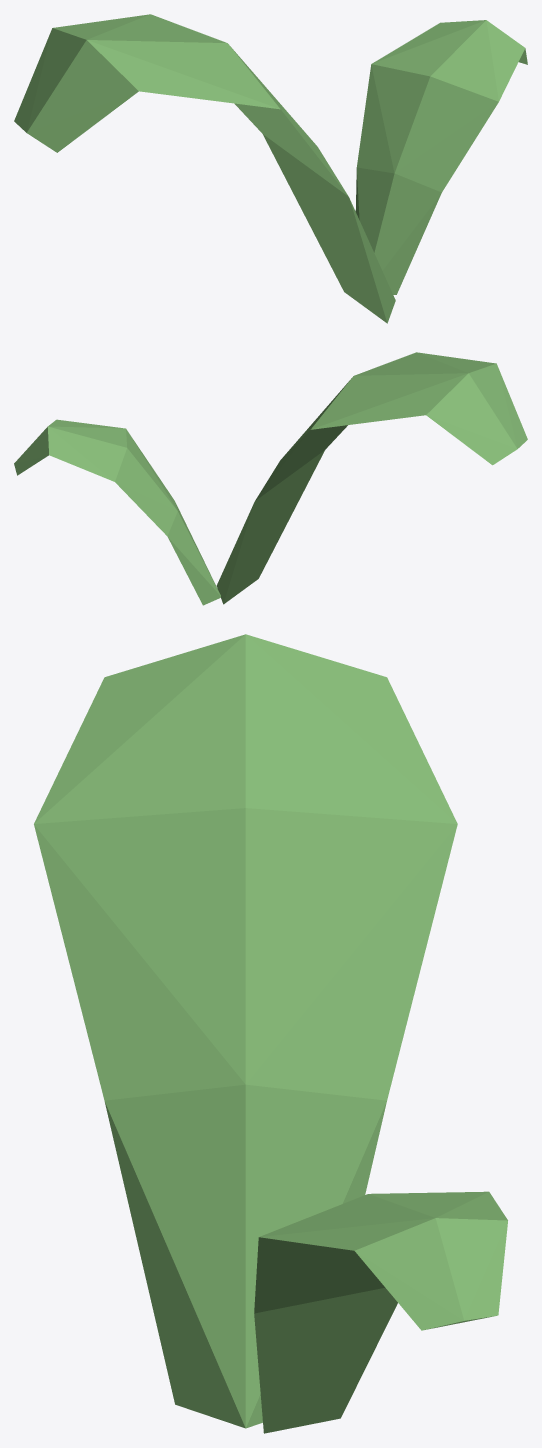
File: shrub1.dae
3 views of the same model, one above another, from view 1: azimuth 30°, elevation 25°; view 2: azimuth 150°, elevation 25°; view 3: azimuth 270°, elevation 25° (orthographic). The views are drawn at different scales.
Visible parts, largest first — view 1: mesh; view 2: mesh; view 3: mesh.
Part boxes in pixels (x1,y1,x2,y2): mesh: [14, 14, 527, 323]; mesh: [14, 352, 527, 605]; mesh: [34, 634, 507, 1433].
Bounding box in the file's own units: 1.85 × 0.8392 × 1.07.
